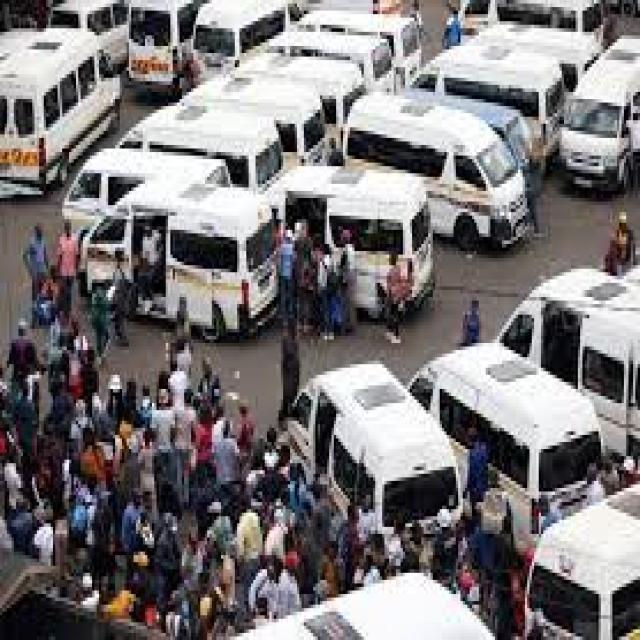MiniBus taxi: (2, 25, 122, 198), (426, 116, 534, 255), (555, 84, 633, 208)
